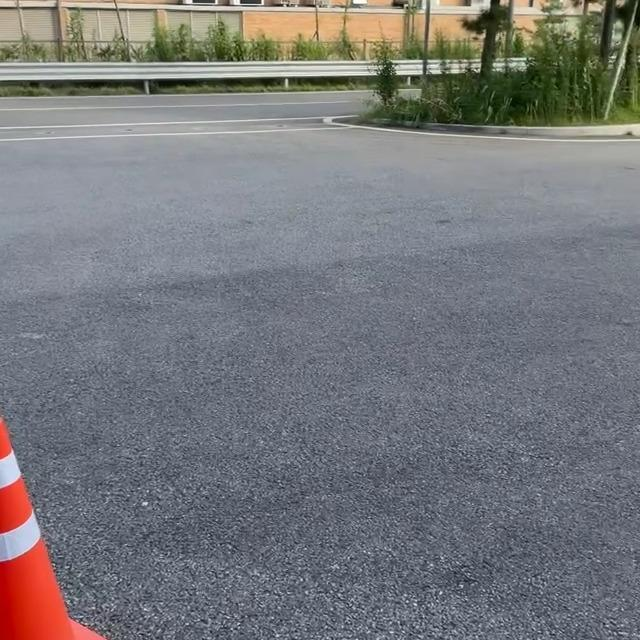fallen_object: (0, 380, 101, 640)
